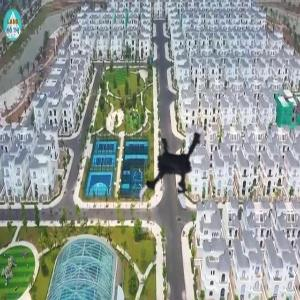drone: (128, 122, 232, 226)
